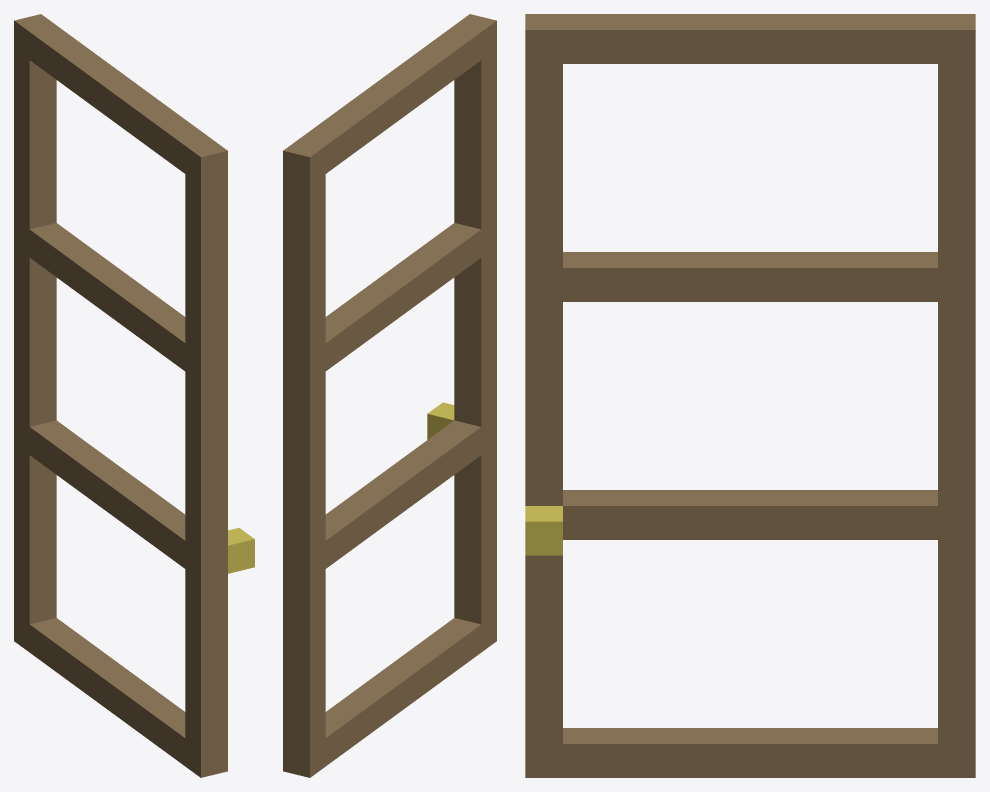
File: Window00-SideB.gltf
The picture shows the model from 3 angles, left to right: view 1: azimuth 30°, elevation 25°; view 2: azimuth 150°, elevation 25°; view 3: azimuth 270°, elevation 25°; orthographic projection. The views are drawn at different scales.
Bounding box in the file's own units: 2 × 22 × 12.
